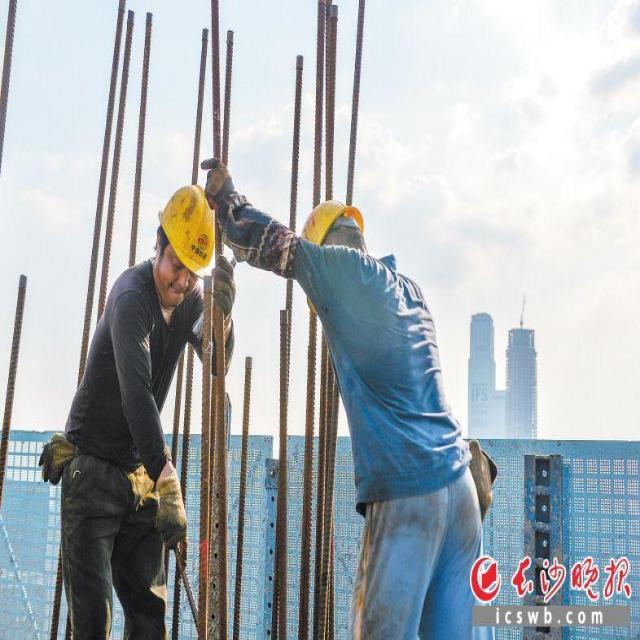helmet: (296, 195, 370, 314), (153, 183, 216, 309)
